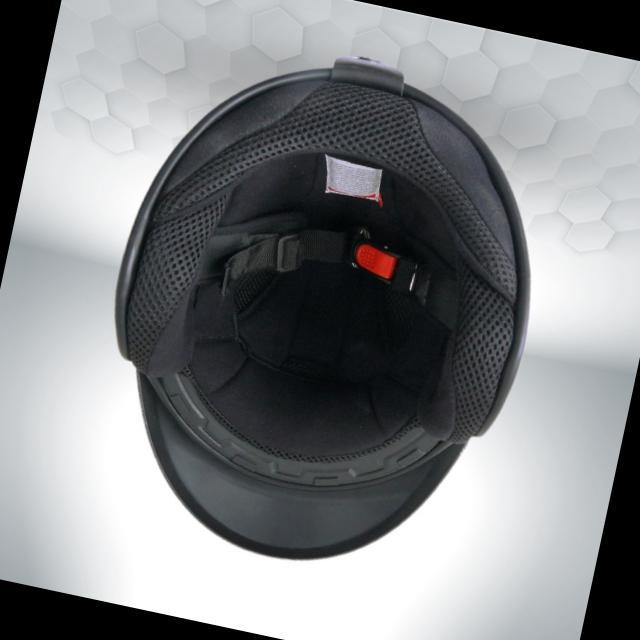Helm: (62, 10, 582, 602)
